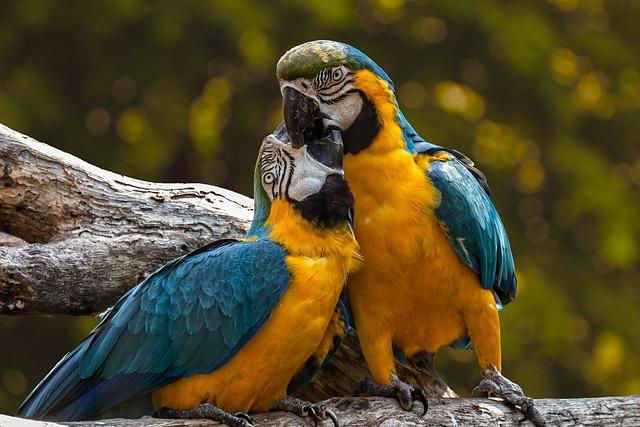Non_Gorille: (64, 0, 566, 427)
